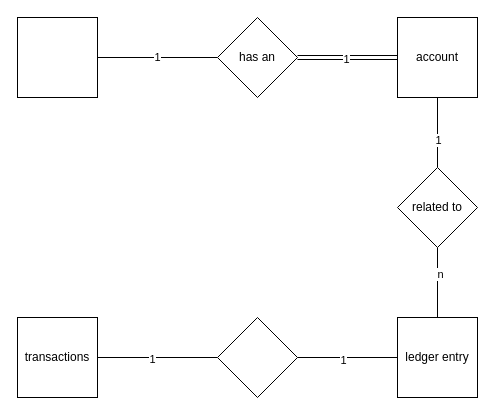
Some shapes in this 495 by 415 pixel diagram are drawn without their labels. The centre of each missing label's shape, as x and y in pixels:
register as: (257,357)
user: (57,57)
